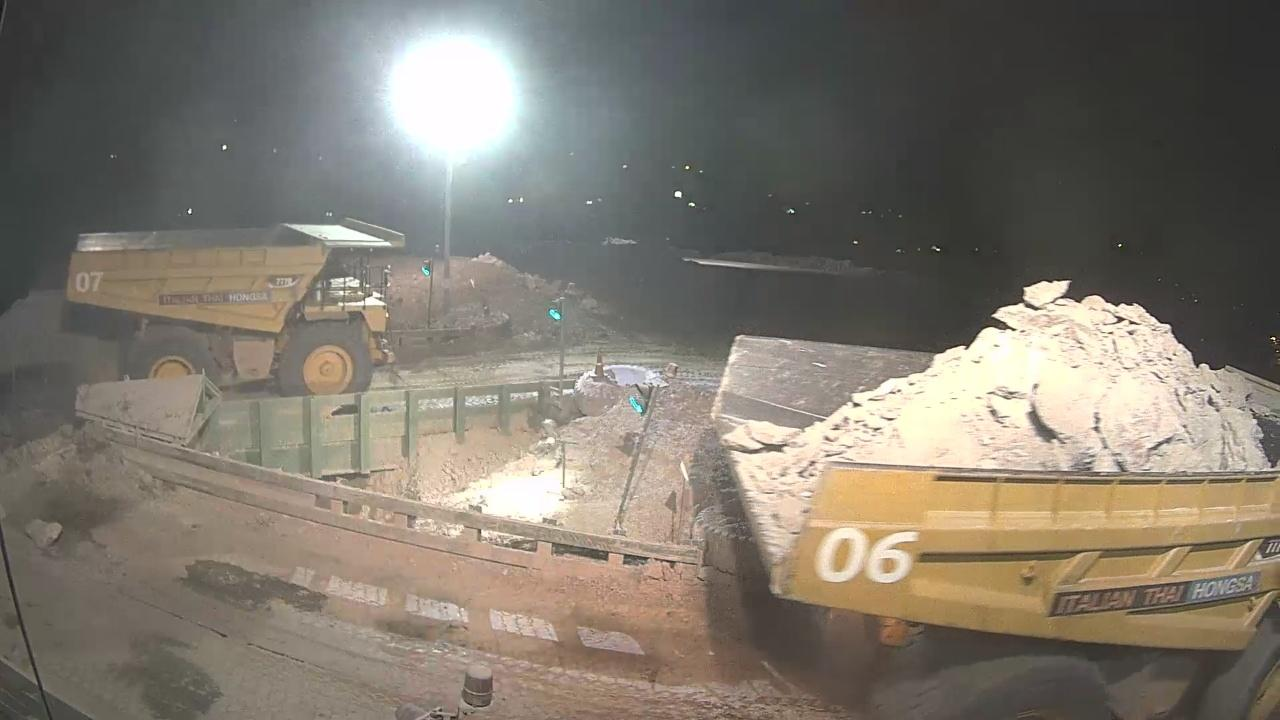company: (1031, 576, 1264, 622)
dust: (36, 21, 364, 172)
full_load: (864, 300, 1280, 511)
mining_truck: (696, 287, 1280, 720), (62, 216, 404, 398)
tail_number: (816, 527, 922, 590), (74, 266, 107, 298)
